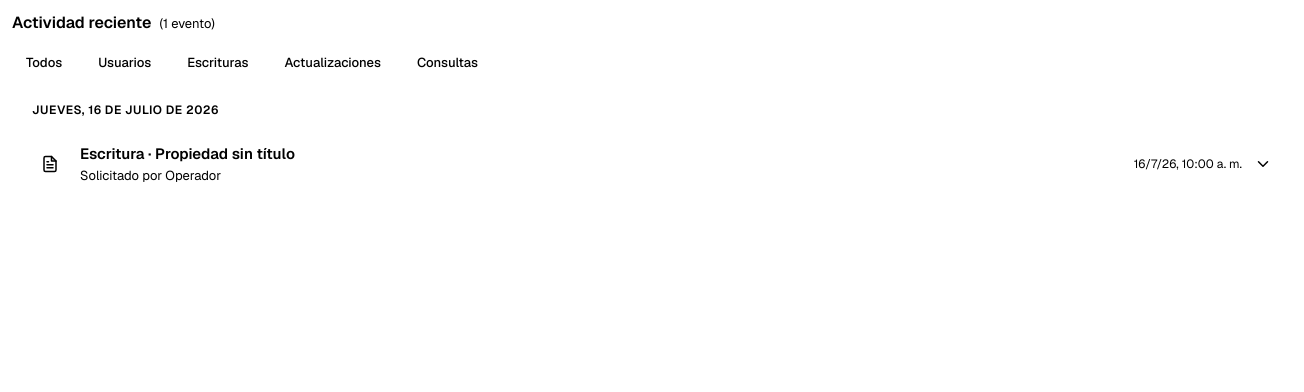
Test: TenantActivityFeed — "Ver documento" action button › shows the "Ver documento" button when the item has an uploaded currentVersion
Step 1. Click the button that starts with "Escritura · Propiedad sin título" → coordinates (187, 153), box [12,128,1292,200]
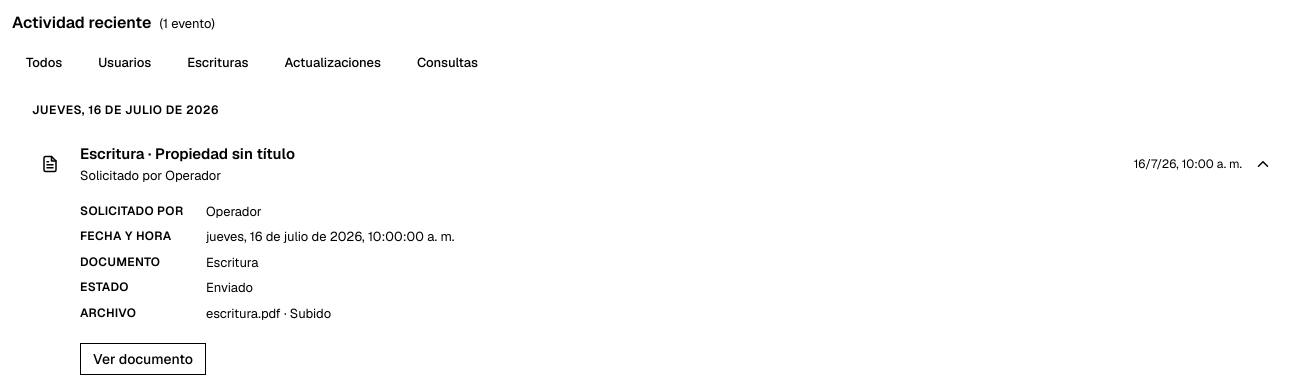
Result: the button "Ver documento" is shown at [80,343,206,375]
